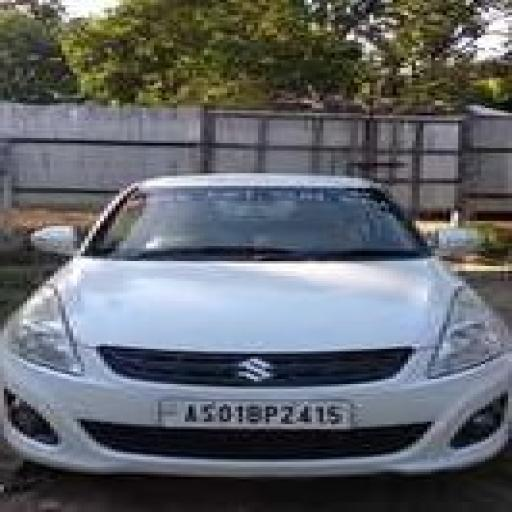license_plate`: (158, 397, 346, 424)
